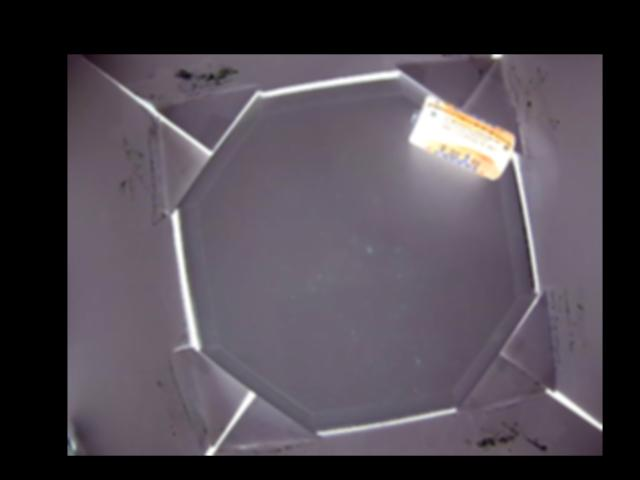Battery: (410, 95, 516, 182)
